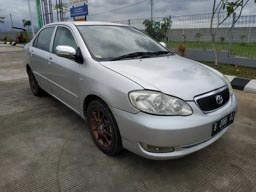plat: (212, 110, 237, 134)
